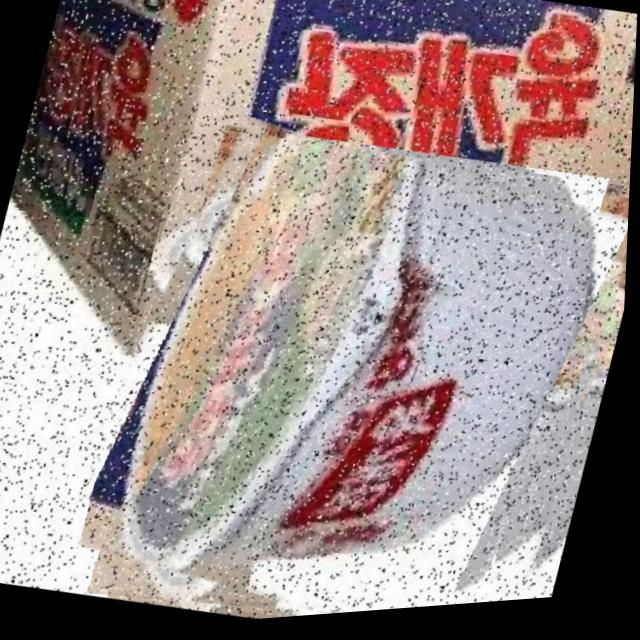Miscellaneous: (70, 100, 636, 634)
